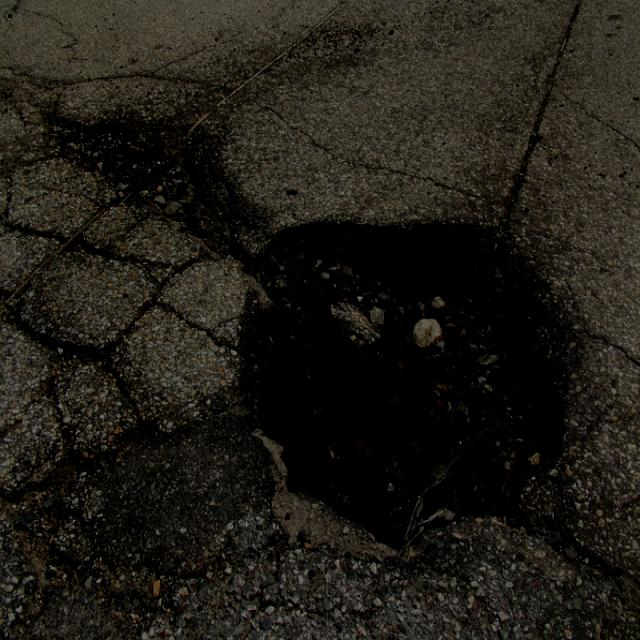Pothole: (42, 103, 622, 588)
